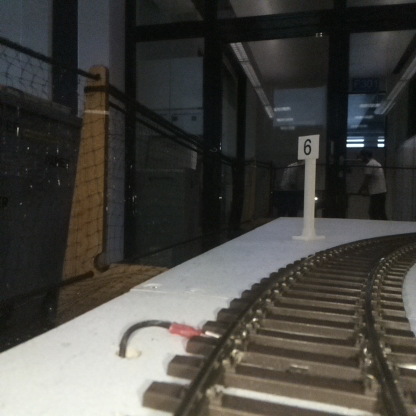white-info-6: (298, 135, 319, 239)
